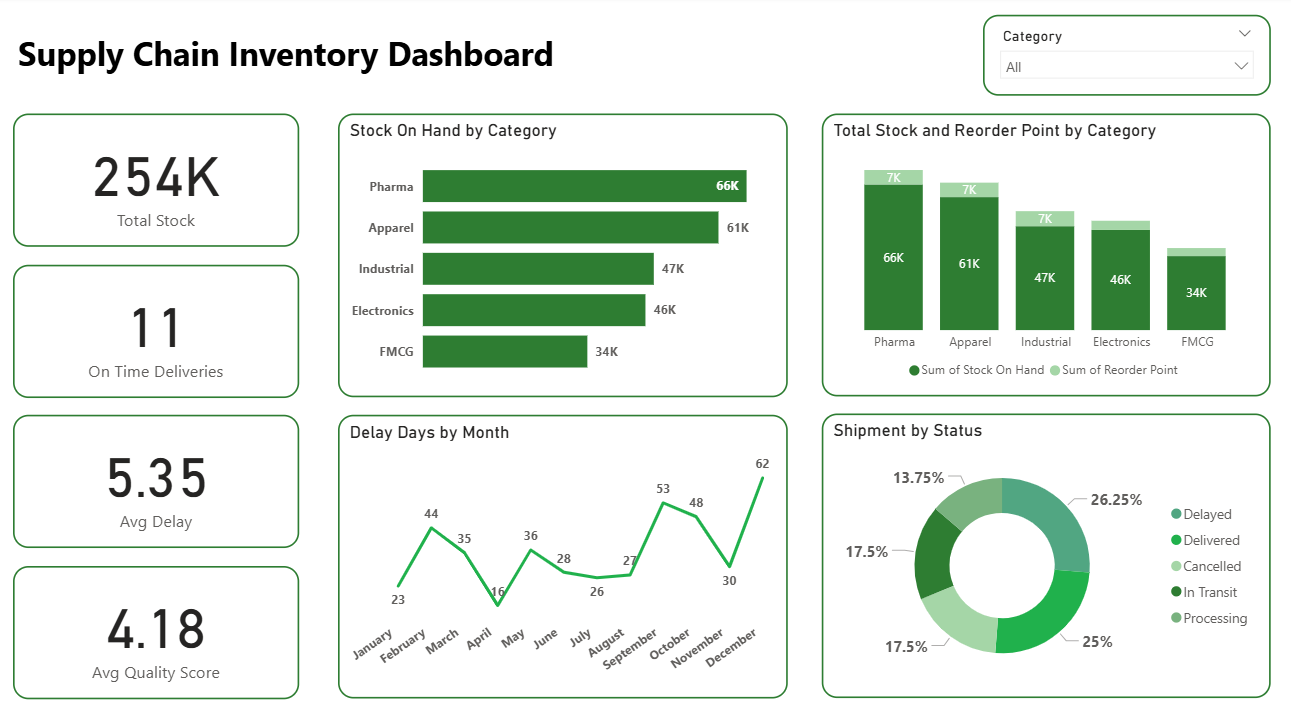

This screenshot's page, from the dashboard's own definition file:
{"tool":"powerbi","page":{"name":"Supply Chain Inventory Dashboard","canvas":[1280,720],"ordinal":0},"visuals":[{"type":"card","fields":{"Values":["Inventory.Total Stock"]},"box":[15.1,115.3,279.7,130.4],"z":0},{"type":"card","fields":{"Values":["Inventory.On Time Deliveries"]},"box":[15.1,262.9,279.7,130],"z":1000},{"type":"card","fields":{"Values":["Inventory.Avg Delay"]},"box":[15.1,410.2,279.7,130],"z":2000},{"type":"card","fields":{"Values":["Inventory.Avg Quality Score"]},"box":[15.1,557.5,279.7,130],"z":3000},{"type":"barChart","title":"Stock On Hand by Category","fields":{"Category":["Inventory.Category"],"Y":["Sum(Inventory.Stock On Hand)"]},"box":[332.6,115.3,440.3,277.8],"z":4000},{"type":"columnChart","title":"Total Stock and  Reorder Point by Category","fields":{"Category":["Inventory.Category"],"Y":["Sum(Inventory.Stock On Hand)","Sum(Inventory.Reorder Point)"]},"box":[806.4,115,438.8,276.9],"z":5000},{"type":"lineChart","title":"Delay Days by Month","fields":{"Category":["Shipment Tracking.Dispatch Date.Variation.Date Hierarchy.Month","Shipment Tracking.Dispatch Date.Variation.Date Hierarchy.Day"],"Y":["Sum(Shipment Tracking.Delay Days)"]},"box":[332.6,410.1,440.3,277.8],"z":6000},{"type":"donutChart","title":"Shipment by Status","fields":{"Category":["Shipment Tracking.Status"],"Y":["CountNonNull(Shipment Tracking.Shipment ID)"]},"box":[806.4,408,438.8,278.5],"z":7000},{"type":"textbox","box":[14.6,29.1,1266.2,84.2],"z":8000},{"type":"slicer","fields":{"Values":["Inventory.Category"]},"box":[963.4,17.8,281.7,79.3],"z":9000}]}

Visuals, with their boxes in screenshot pixels (x1, y1, x2, y2), scaled from the page's 1280x720 canvas onto the 1291x711 screenshot:
card - Inventory.Total Stock: locate(15, 114, 297, 243)
card - Inventory.On Time Deliveries: locate(15, 260, 297, 388)
card - Inventory.Avg Delay: locate(15, 405, 297, 533)
card - Inventory.Avg Quality Score: locate(15, 551, 297, 679)
"Stock On Hand by Category" barChart: locate(335, 114, 780, 388)
"Total Stock and  Reorder Point by Category" columnChart: locate(813, 114, 1256, 387)
"Delay Days by Month" lineChart: locate(335, 405, 780, 679)
"Shipment by Status" donutChart: locate(813, 403, 1256, 678)
textbox: locate(15, 29, 1290, 112)
slicer - Inventory.Category: locate(972, 18, 1256, 96)
